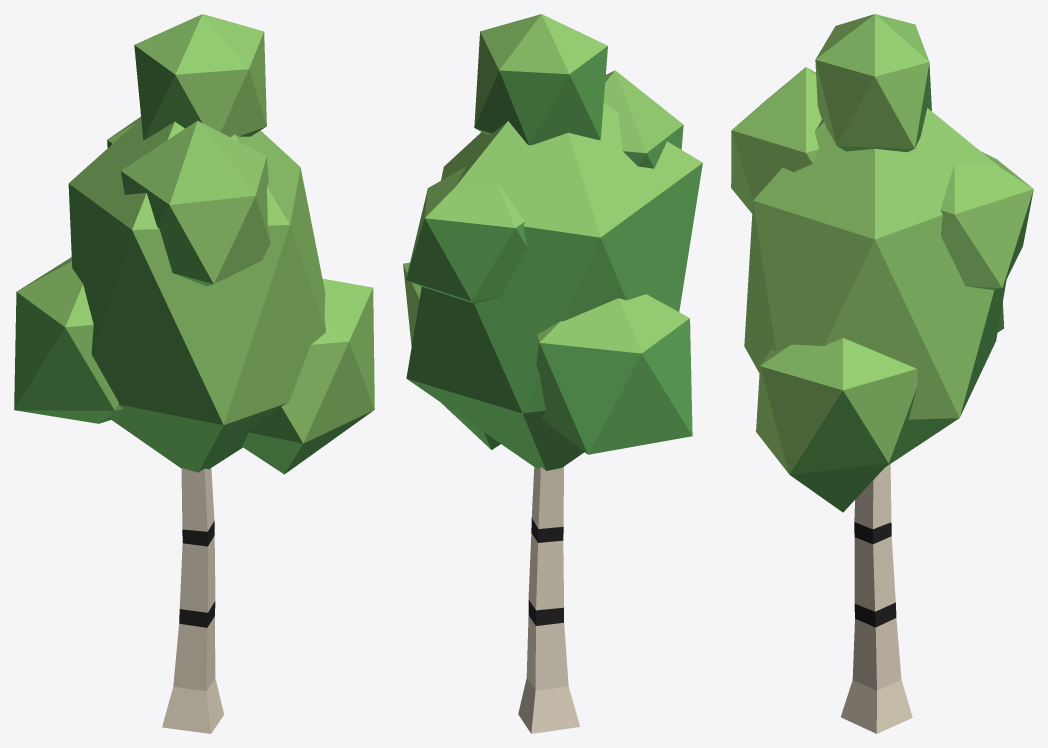
The model's file is tree_broadleaf_c_lod1.glb.
3 views of the same model, side by side, from view 1: azimuth 30°, elevation 25°; view 2: azimuth 150°, elevation 25°; view 3: azimuth 270°, elevation 25° (orthographic).
Visible parts, largest first — view 1: tree_broadleaf_c_lod1; view 2: tree_broadleaf_c_lod1; view 3: tree_broadleaf_c_lod1.
Part boxes in pixels (x1,y1,x2,y2): tree_broadleaf_c_lod1: (14, 14, 374, 733); tree_broadleaf_c_lod1: (403, 14, 702, 733); tree_broadleaf_c_lod1: (731, 14, 1033, 733).
Bounding box in the file's own units: 3.54 × 7.37 × 2.85.
